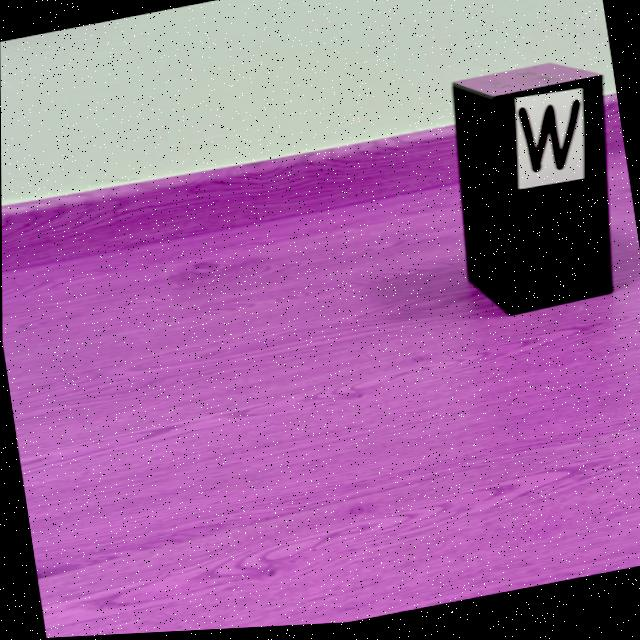W: (519, 106, 580, 178)
